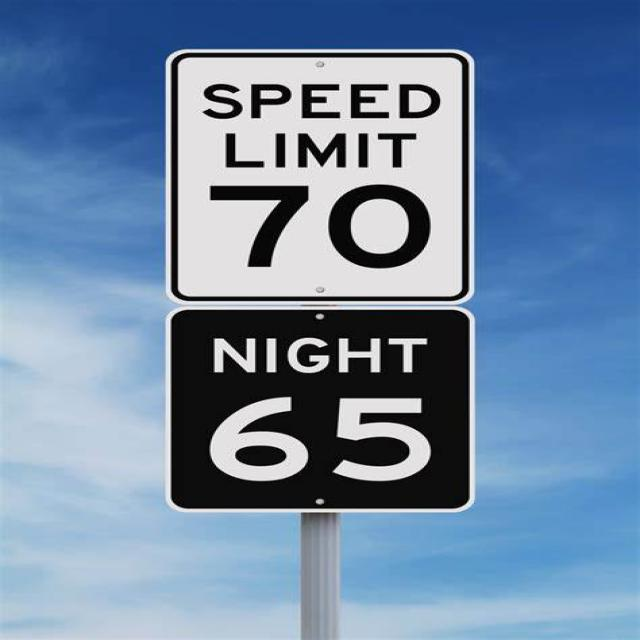speedLimit70: (160, 53, 468, 298)
